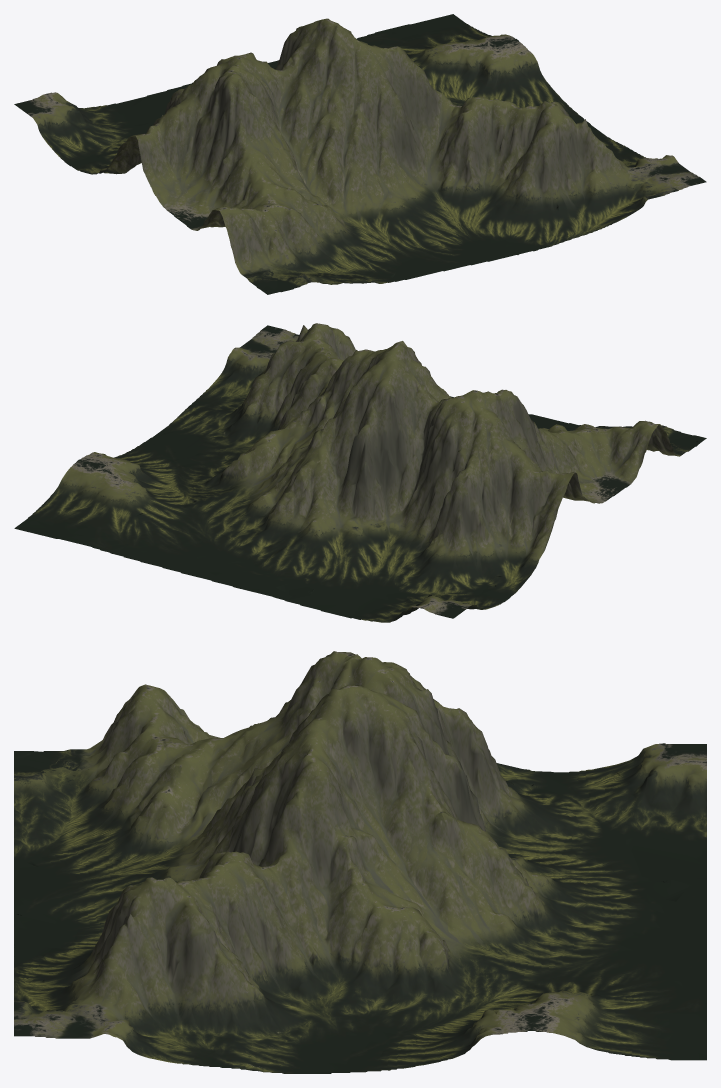
Rendered from SM_mountBackA_a1.fbx.
3 views of the same model, one above another, from view 1: azimuth 30°, elevation 25°; view 2: azimuth 150°, elevation 25°; view 3: azimuth 270°, elevation 25° (orthographic). The views are drawn at different scales.
Parts seen in each view (by area): view 1: SM_mountBackA_a1_LOD0; view 2: SM_mountBackA_a1_LOD0; view 3: SM_mountBackA_a1_LOD0.
Boxes of the visible parts, left/top/right/bottom form: SM_mountBackA_a1_LOD0: left=14, top=14, right=706, bottom=294; SM_mountBackA_a1_LOD0: left=14, top=323, right=706, bottom=622; SM_mountBackA_a1_LOD0: left=14, top=651, right=706, bottom=1073.
Size of the model in its own units: 20003 by 20000 by 6980.
Materials: 1 (1 with a texture image).
